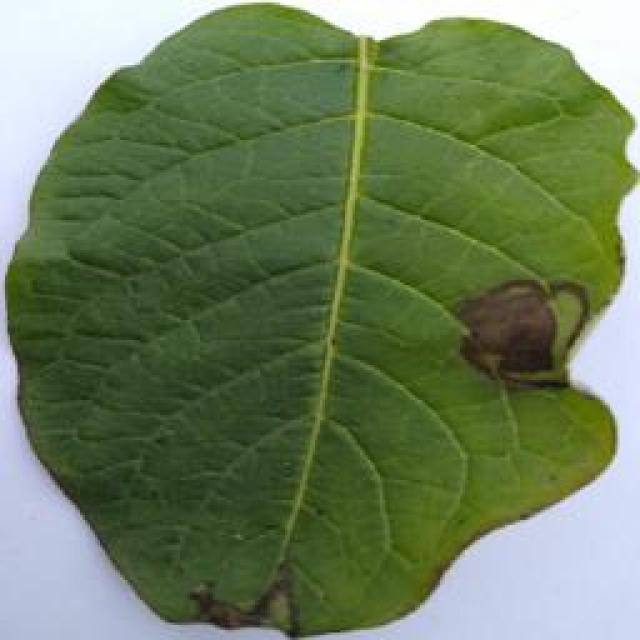Potato_Late_Blight: (5, 0, 635, 640)
